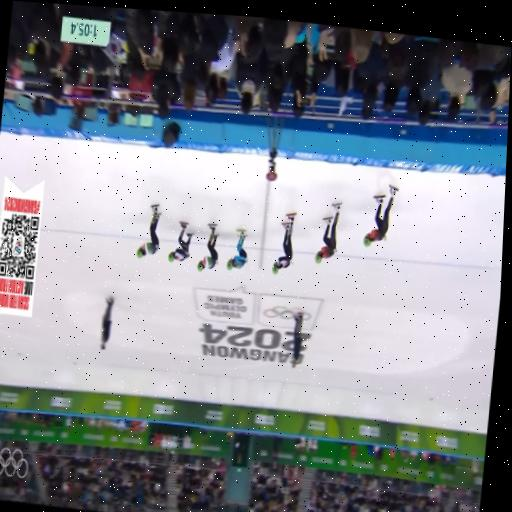Skater: (362, 184, 397, 245), (314, 202, 340, 263), (271, 213, 294, 274), (136, 204, 159, 257), (167, 222, 192, 261), (197, 224, 217, 271), (226, 230, 246, 269)
